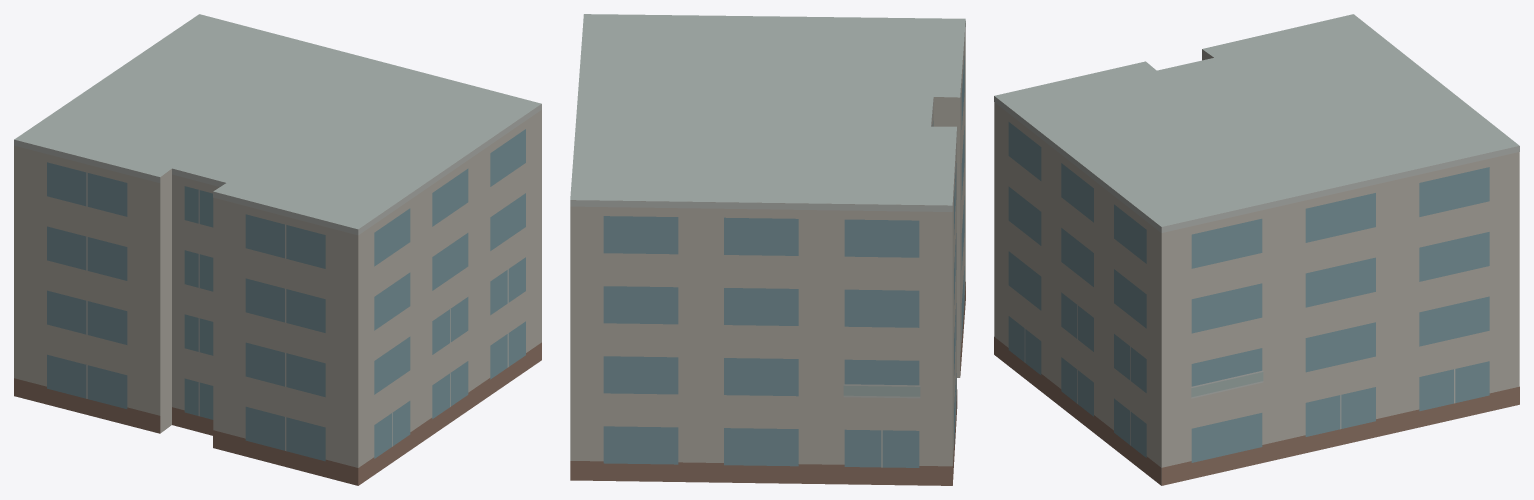
The model's file is survey-upis-32612913.glb.
3 renders of one model, left to right at view 1: azimuth 30°, elevation 25°; view 2: azimuth 150°, elevation 25°; view 3: azimuth 270°, elevation 25°, orthographic. The views are drawn at different scales.
Visible parts, largest first — view 1: survey-upis-32612913.tmp; view 2: survey-upis-32612913.tmp; view 3: survey-upis-32612913.tmp.
Part boxes in pixels (x1,y1,x2,y2): survey-upis-32612913.tmp: (14, 14, 541, 485); survey-upis-32612913.tmp: (570, 14, 965, 485); survey-upis-32612913.tmp: (994, 14, 1519, 485).
Size of the model in its own units: 18.37 by 10.4 by 19.15.
